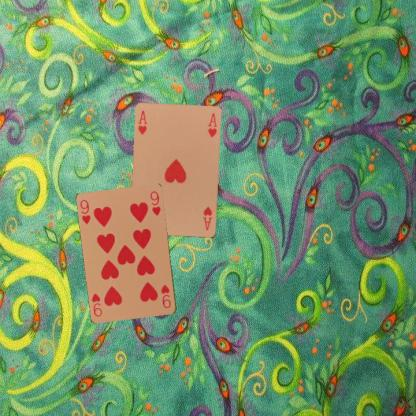9h: (77, 197, 92, 226), (158, 282, 172, 310)
Ah: (135, 108, 149, 136), (201, 203, 214, 232)
